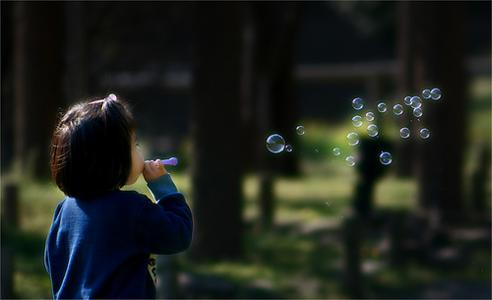person: (40, 93, 197, 300)
